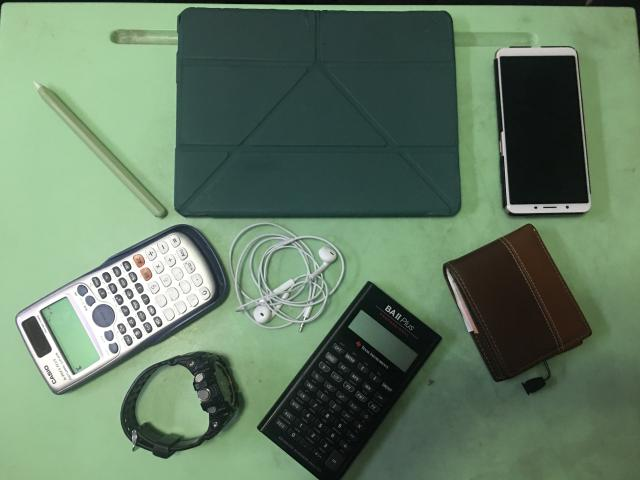Mobile phone: (495, 48, 591, 215)
Wallet: (444, 224, 591, 381)
Watch: (121, 351, 239, 459)
wire: (229, 222, 345, 330)
